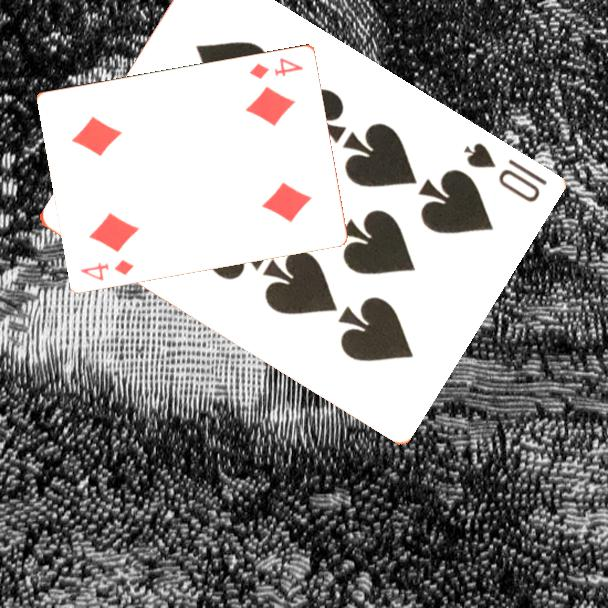d04: (246, 54, 306, 82), (77, 256, 137, 283)
s10: (459, 139, 550, 206)
